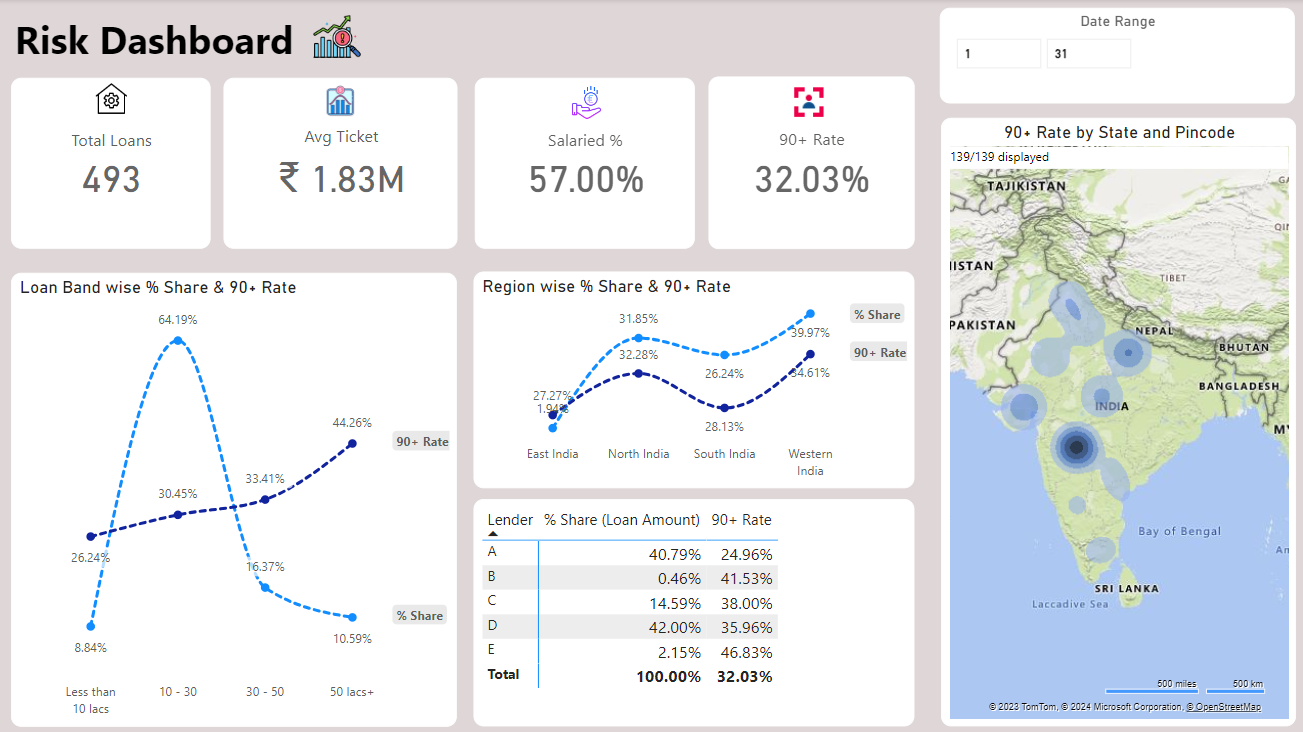

The page's visual inventory and layout, read from the dashboard file:
{"tool":"powerbi","page":{"name":"Risk Dashboard","canvas":[1280,720],"ordinal":8},"visuals":[{"type":"cardVisual","title":"Total Loans","fields":{"Data":["All_measures.Number of Loans"]},"box":[15.1,77.3,195.5,167.5],"z":0,"group":"g1"},{"type":"lineStackedColumnComboChart","title":" Loan Band wise % Share & 90+ Rate","fields":{"Category":["Data.Loan Band"],"Y2":["Divide(All_measures.Total Loan Amount, ScopedEval(All_measures.Total Loan Amount, []))","All_measures.90+ Rate"]},"box":[15,267.5,436.2,443.8],"z":0},{"type":"lineChart","title":"Region wise % Share & 90+ Rate","fields":{"Category":["Data.Region","Data.State","Data.BRANCHNAME"],"Y2":["All_measures.90+ Rate"],"Y":["Divide(All_measures.Total Loan Amount, ScopedEval(All_measures.Total Loan Amount, []))"]},"box":[467.5,266.9,431.4,212.1],"z":1000},{"type":"cardVisual","title":"Avg Ticket","fields":{"Data":["All_measures.Avg Ticket"]},"box":[222.3,77.4,229.2,166.9],"z":2000},{"type":"cardVisual","title":"Salaried %","fields":{"Data":["All_measures.Salaried %"]},"box":[467.9,76.8,215.4,167.4],"z":3000,"group":"g2"},{"type":"pivotTable","fields":{"Rows":["Data.Lender"],"Values":["All_measures.Total Loan Amount","All_measures.90+ Rate"]},"box":[467.5,489.1,431.4,222.2],"z":3000},{"type":"image","box":[775.3,76.8,48,39.8],"z":4000},{"type":"heatmapF244EA9EE1F34E828A80CF19B41976F8","fields":{"location":["Data.State"],"group":["Data.Pincode"],"value":["All_measures.90+ Rate"]},"box":[923.8,116.2,347.5,595],"z":5000},{"type":"group","id":"g1","title":"Group 3","box":[15.1,76.8,194.9,167.4],"z":6000},{"type":"slicer","title":"Date Range","fields":{"Values":["Data.Loan Sanction Date.Variation.Date Hierarchy.Day"]},"box":[923.5,8.2,347.2,93.3],"z":7000},{"type":"textbox","box":[13.7,8.2,1257,68.6],"z":8000},{"type":"image","box":[316.3,76.8,41,45.5],"z":9000},{"type":"image","box":[91.5,76.8,44,41.6],"z":9001,"group":"g1"},{"type":"image","box":[797.2,72.7,48.9,40.8],"z":10000},{"type":"image","box":[554.3,79.1,45.3,45.4],"z":10000,"group":"g2"},{"type":"image","box":[300.5,8.2,65.9,56.3],"z":11000},{"type":"cardVisual","fields":{"Data":["All_measures.90+ Rate"]},"box":[697.1,75.5,201.7,168.8],"z":12000},{"type":"group","id":"g2","title":"Group 5","box":[467.9,76.8,215.4,167.4],"z":13000},{"type":"image","box":[771.6,79.2,46.2,42.5],"z":14000}]}

Visuals, with their boxes in screenshot pixels (x1, y1, x2, y2), scaled from the page's 1280x720 canvas onto the 1303x732 screenshot:
"Total Loans" cardVisual: left=15, top=79, right=214, bottom=249
" Loan Band wise % Share & 90+ Rate" lineStackedColumnComboChart: left=15, top=272, right=459, bottom=723
"Region wise % Share & 90+ Rate" lineChart: left=476, top=271, right=915, bottom=487
"Avg Ticket" cardVisual: left=226, top=79, right=460, bottom=248
"Salaried %" cardVisual: left=476, top=78, right=696, bottom=248
pivotTable - Data.Lender x All_measures.Total Loan Amount: left=476, top=497, right=915, bottom=723
image: left=789, top=78, right=838, bottom=119
heatmapF244EA9EE1F34E828A80CF19B41976F8 - Data.State x Data.Pincode: left=940, top=118, right=1294, bottom=723
"Group 3" group: left=15, top=78, right=214, bottom=248
"Date Range" slicer: left=940, top=8, right=1294, bottom=103
textbox: left=14, top=8, right=1294, bottom=78
image: left=322, top=78, right=364, bottom=124
image: left=93, top=78, right=138, bottom=120
image: left=812, top=74, right=861, bottom=115
image: left=564, top=80, right=610, bottom=127
image: left=306, top=8, right=373, bottom=66
cardVisual - All_measures.90+ Rate: left=710, top=77, right=915, bottom=248
"Group 5" group: left=476, top=78, right=696, bottom=248
image: left=785, top=81, right=832, bottom=124
